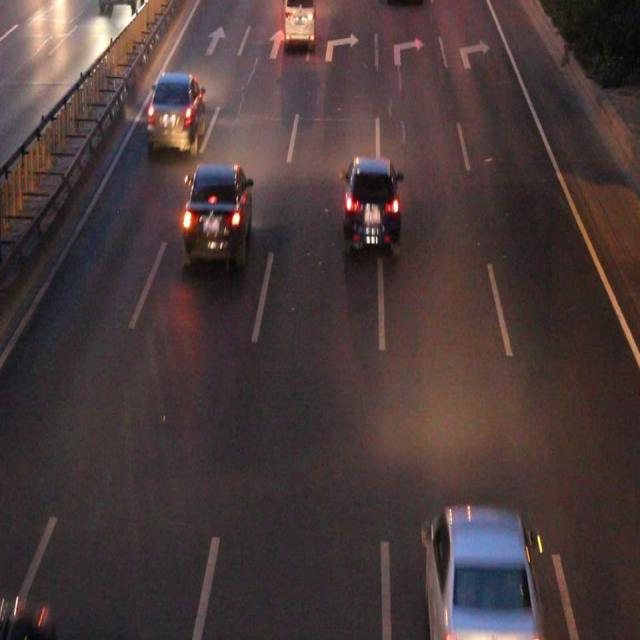car: (427, 506, 541, 640), (184, 166, 250, 263), (343, 162, 398, 253), (150, 73, 203, 147), (1, 595, 53, 640)
truck: (285, 2, 314, 48)
